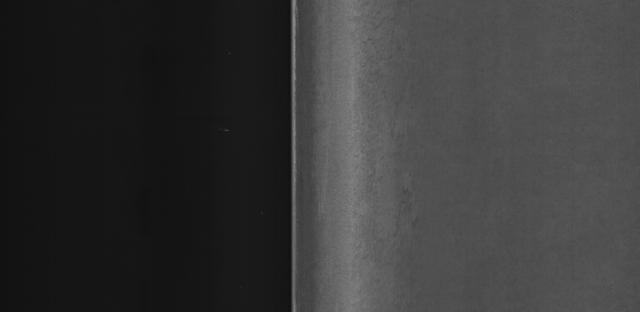silk_spot: (313, 19, 423, 291)
